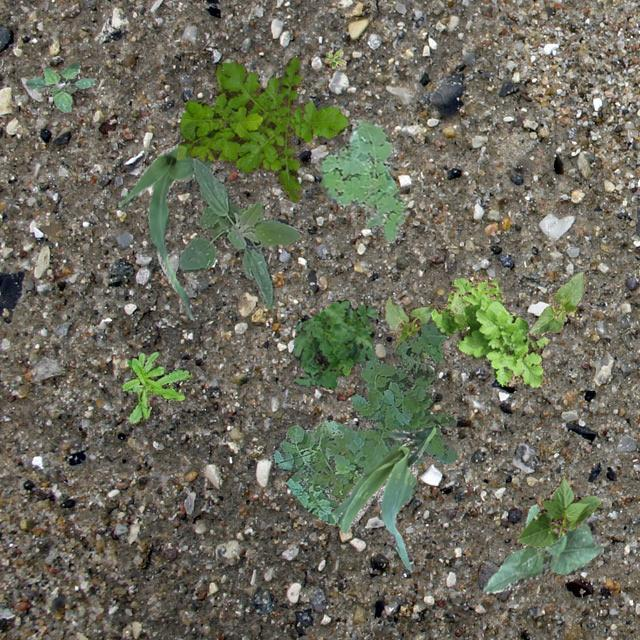crop: (115, 142, 212, 318), (330, 424, 434, 572), (482, 504, 602, 592), (516, 476, 600, 546), (528, 272, 584, 334), (382, 296, 433, 360)
weed: (272, 314, 458, 524), (176, 56, 347, 202), (178, 156, 302, 308), (430, 276, 548, 386), (314, 118, 406, 242), (292, 298, 376, 389), (122, 349, 190, 422), (24, 62, 96, 112), (322, 48, 346, 68)
